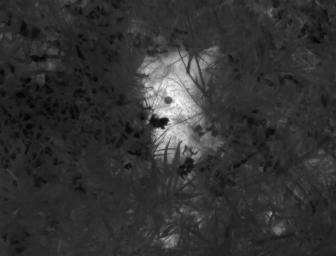landmine: (141, 55, 219, 161)
